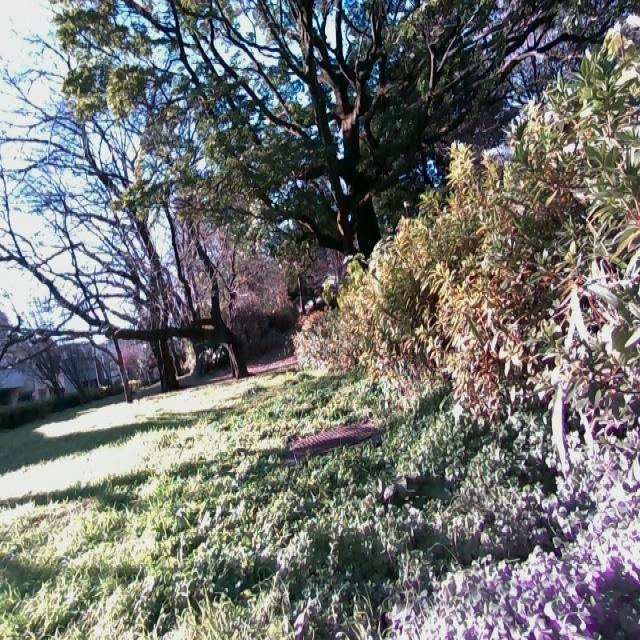bush: (278, 51, 640, 428)
tree: (106, 2, 578, 273), (0, 79, 259, 388), (0, 131, 184, 385), (0, 268, 138, 404)
